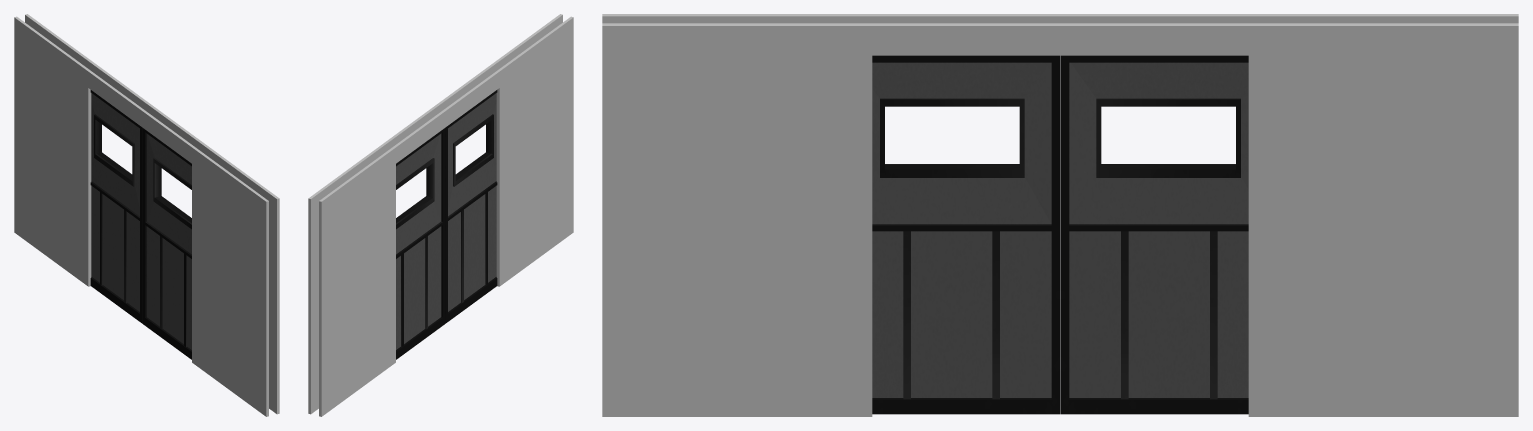
File: Door 1.fbx
3 renders of one model, left to right at view 1: azimuth 30°, elevation 25°; view 2: azimuth 150°, elevation 25°; view 3: azimuth 270°, elevation 25°, orthographic. The views are drawn at different scales.
Visible parts, largest first — view 1: Cube, Cube.001, Cube.002; view 2: Cube, Cube.002, Cube.001; view 3: Cube, Cube.001, Cube.002.
Part boxes in pixels (<box>): Cube: <box>14,14,279,416</box>; Cube.001: <box>90,90,142,323</box>; Cube.002: <box>142,128,191,359</box>; Cube: <box>308,14,573,416</box>; Cube.002: <box>445,90,497,323</box>; Cube.001: <box>396,128,445,359</box>; Cube: <box>602,14,1518,416</box>; Cube.001: <box>1060,55,1248,414</box>; Cube.002: <box>872,55,1060,414</box>.
Bounding box in the file's own units: 25.11 × 384 × 816.
